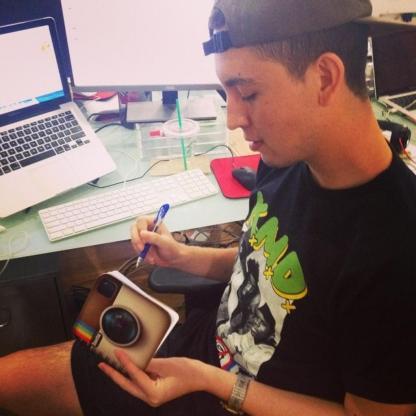board: (3, 36, 114, 210)
